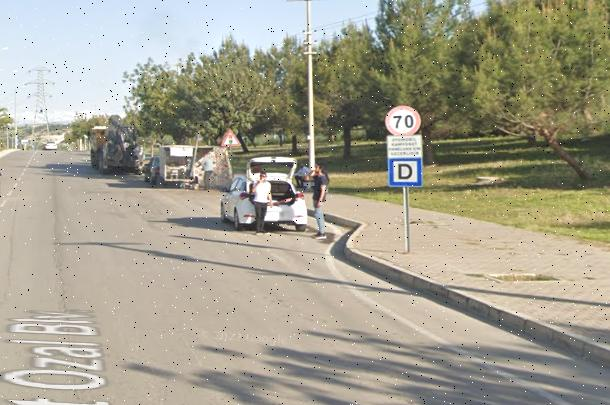station: (389, 158, 423, 186)
